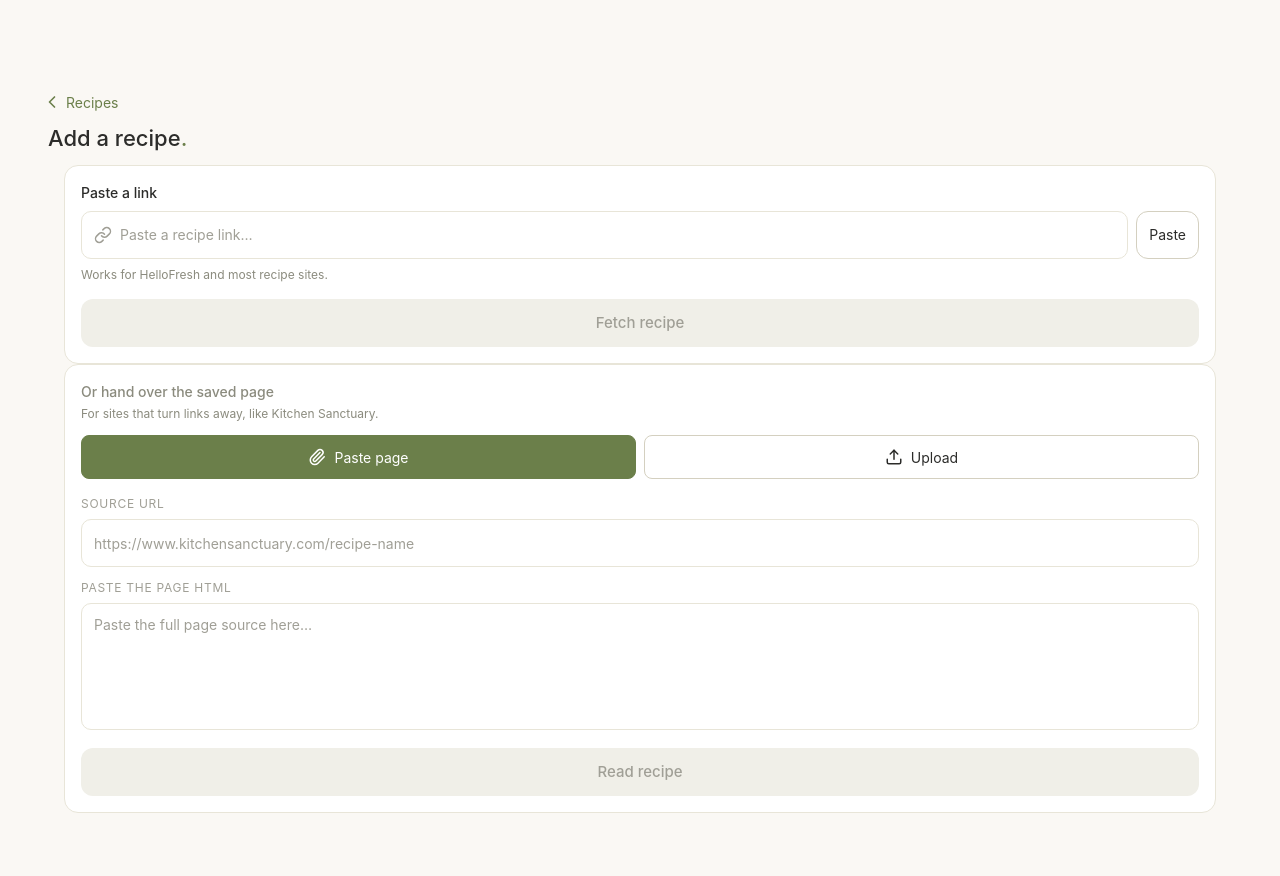
Test: AddRecipe page › link submit → success → preview › shows the preview after a successful import
Note: Simulate user typing a URL
Type "https://www.hellofresh.com/recipes/sweet-chili-tofu-bowls" into the field labelled "Paste a link" at point(618, 235), box [120,224,1115,245]
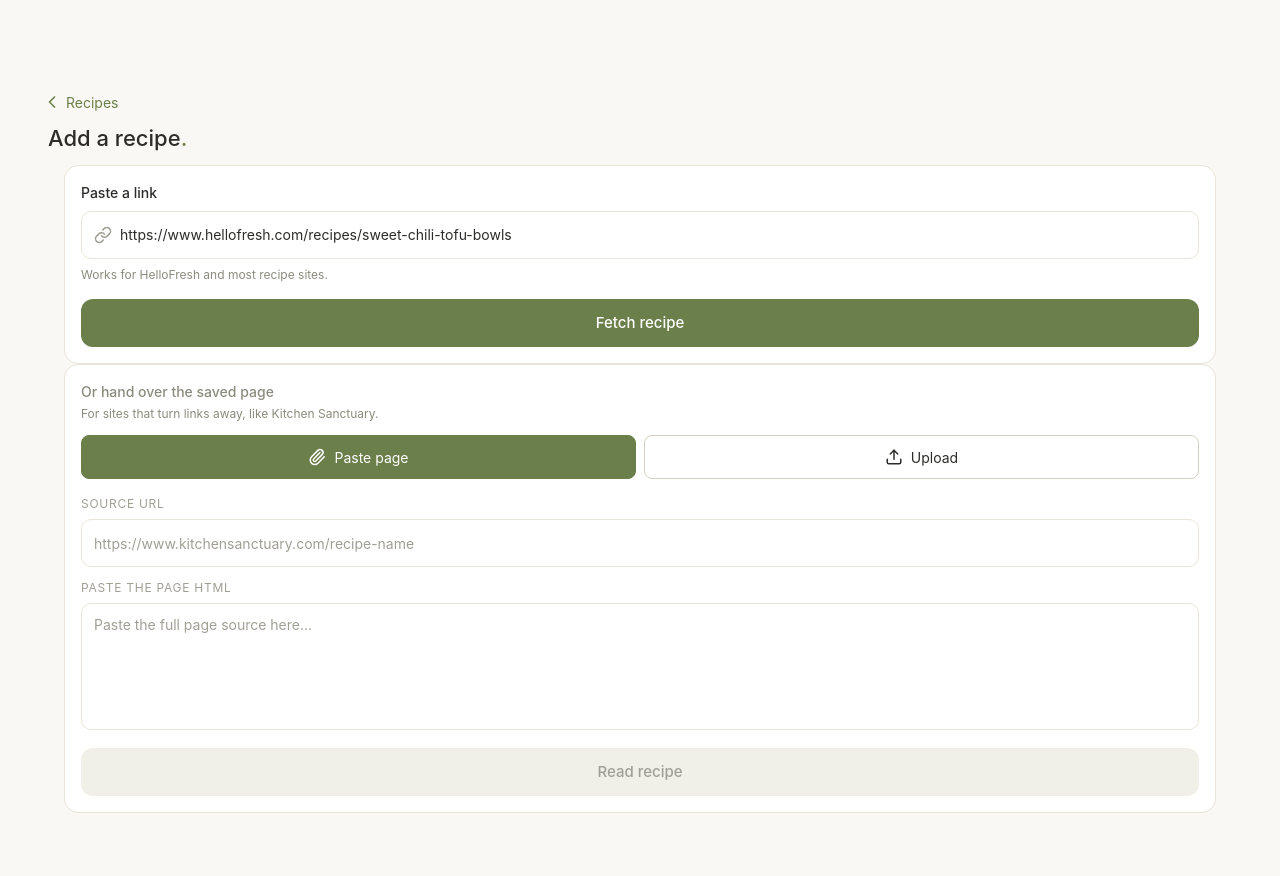
Click the button "Fetch recipe" at point(640, 323), box [81,299,1199,347]
(page scrolled)
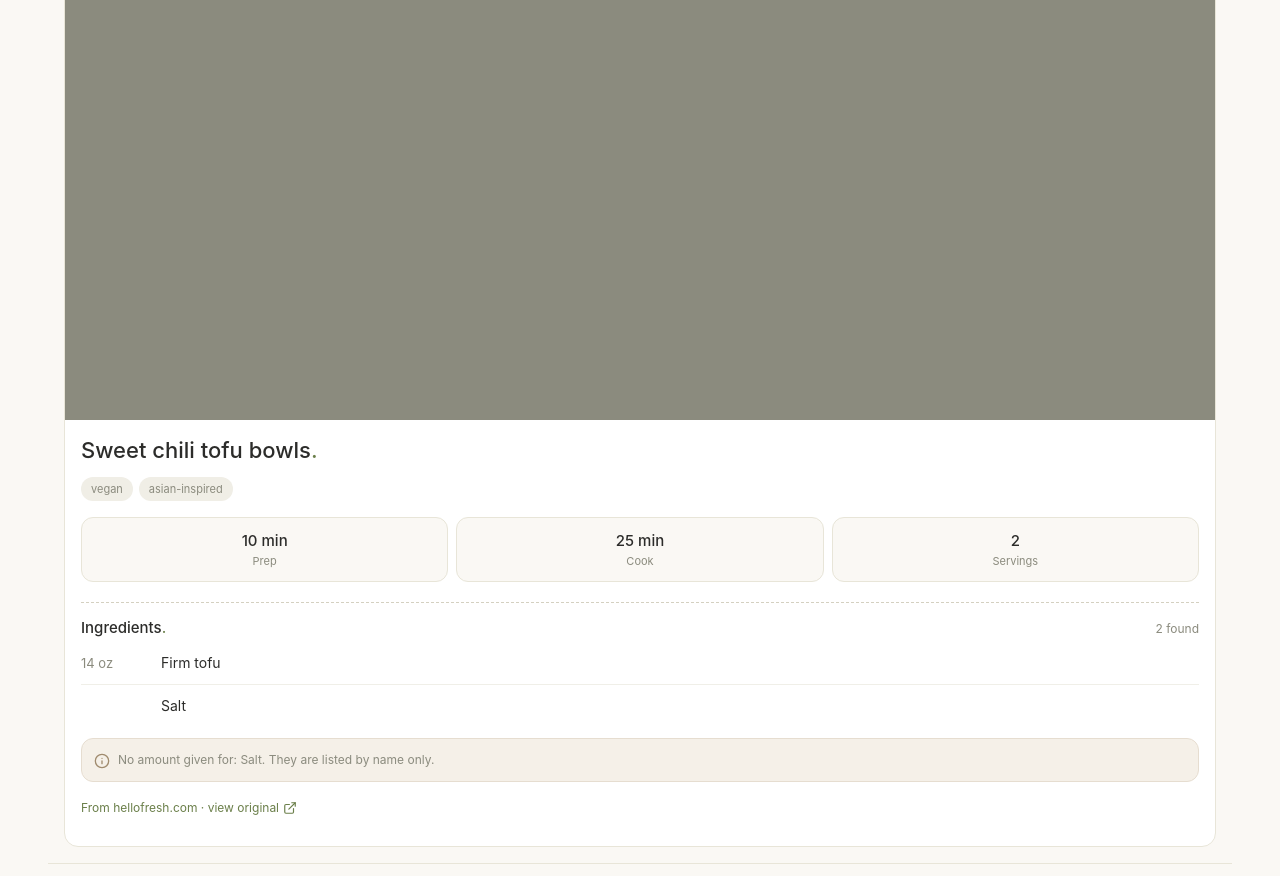
Expected: the heading "Sweet chili tofu bowls." is shown, [81,437,318,463]
